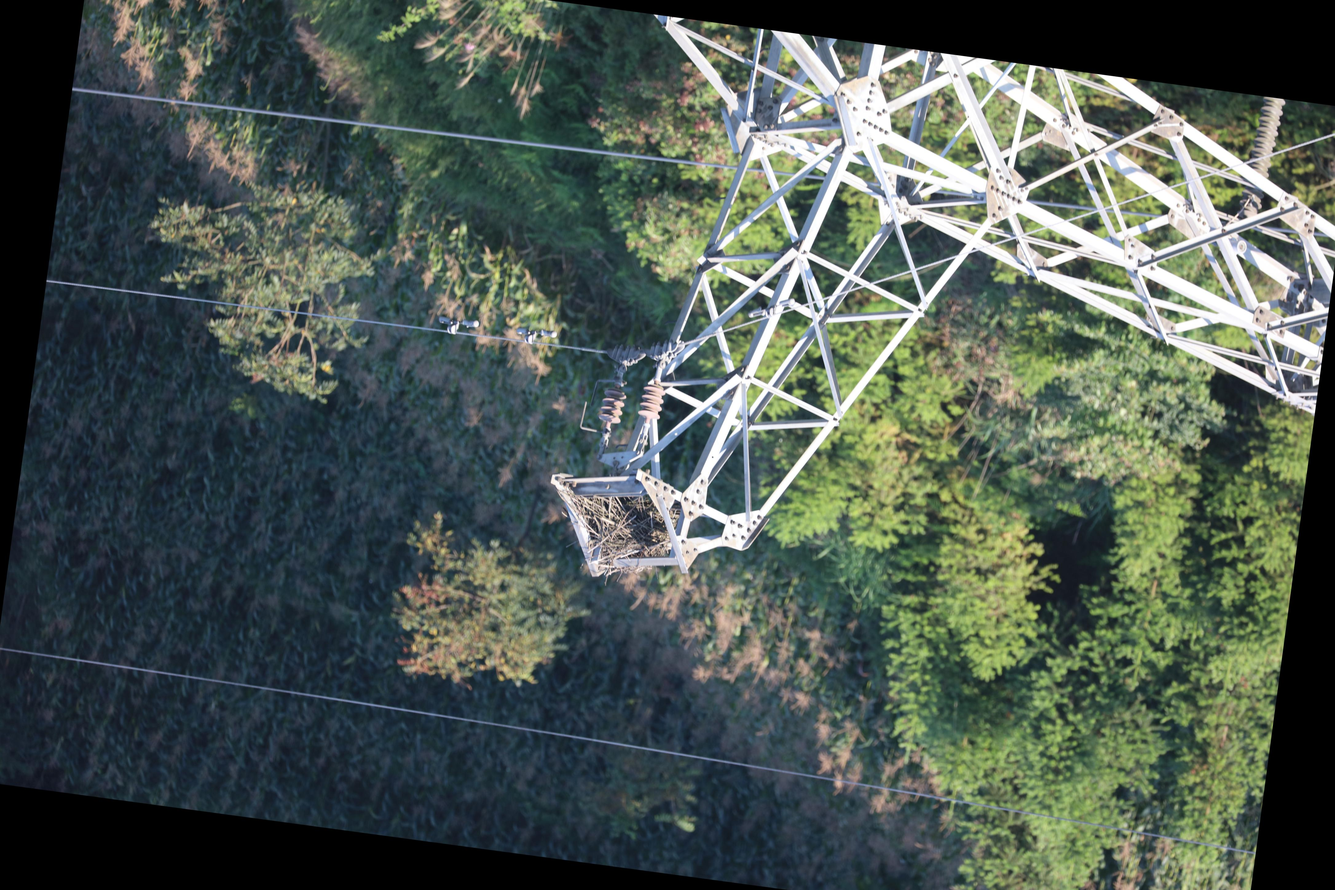damper: (745, 289, 799, 327), (434, 311, 481, 340), (513, 323, 560, 351)
